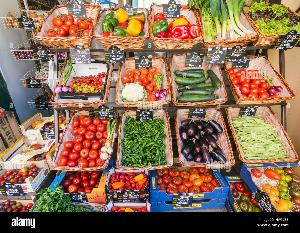bell_pepper: (148, 6, 202, 39), (101, 10, 155, 42)
eggplant: (169, 115, 235, 171)
onion: (4, 10, 44, 28), (14, 43, 52, 59)
tomato: (109, 54, 175, 106), (228, 55, 288, 104), (62, 115, 112, 170), (35, 9, 99, 41), (154, 166, 222, 196), (255, 166, 300, 211), (58, 63, 108, 101), (54, 169, 110, 197), (112, 170, 154, 197), (225, 182, 258, 214), (0, 164, 42, 186), (14, 142, 50, 162), (0, 196, 34, 212)
zucchini: (164, 62, 229, 106)
